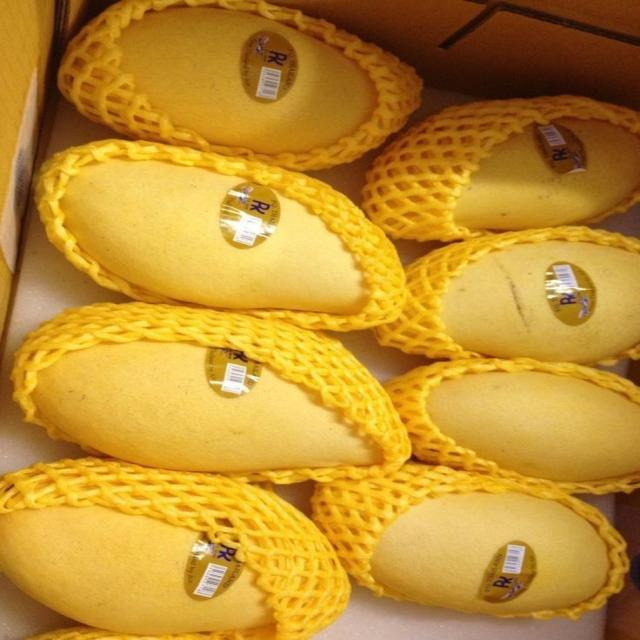mango: (14, 304, 410, 482), (37, 141, 404, 330), (0, 458, 349, 638), (59, 0, 421, 169), (313, 463, 627, 619), (363, 96, 639, 240), (377, 228, 639, 363), (386, 359, 639, 492)
